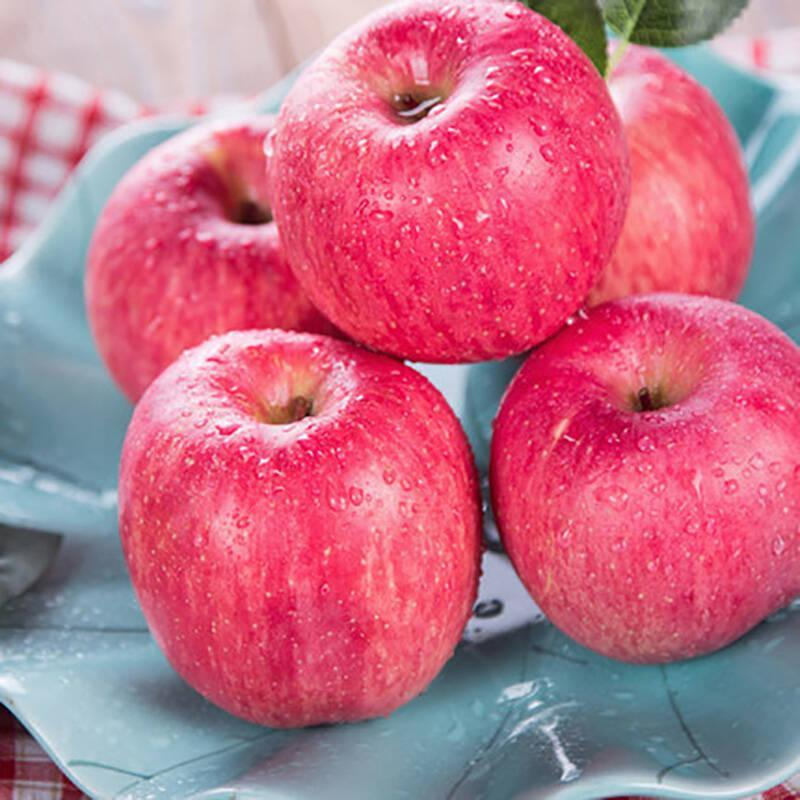apple: (119, 348, 486, 739), (269, 5, 632, 357), (485, 316, 794, 684), (79, 128, 327, 412), (592, 46, 756, 311)
